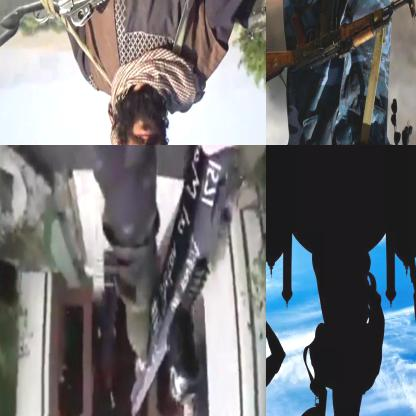rifle: (127, 145, 247, 415), (0, 0, 265, 58), (266, 0, 415, 92), (298, 377, 329, 415)
